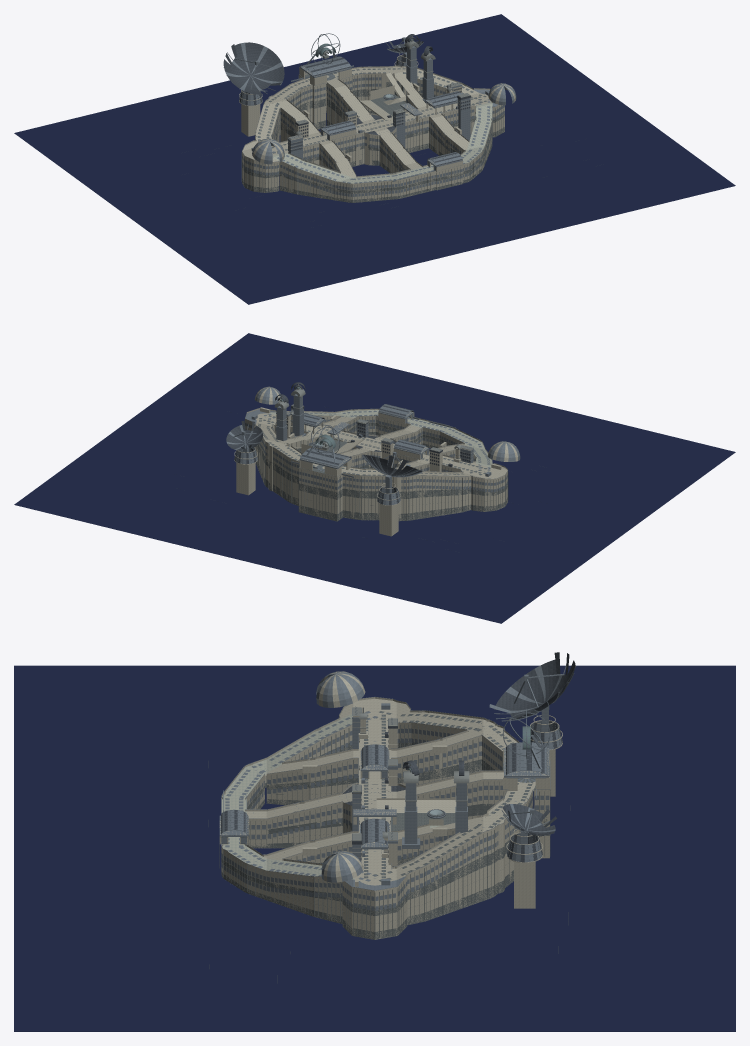
Rendered from candidate.glb.
3 renders of one model, top to bottom at view 1: azimuth 30°, elevation 25°; view 2: azimuth 150°, elevation 25°; view 3: azimuth 270°, elevation 25°, orthographic. The views are drawn at different scales.
Parts seen in each view (by area): view 1: kit.authority.sea.00, kit.authority.saltstone.00, kit.authority.metal.00, kit.authority.paving.01, kit.authority.paving.00, kit.authority.mirror.00, kit.authority.cistern.00, kit.authority.ochre.00, kit.authority.ochre.01; view 2: kit.authority.sea.00, kit.authority.saltstone.00, kit.authority.metal.00, kit.authority.paving.00, kit.authority.paving.01, kit.authority.mirror.00, kit.authority.cistern.00, kit.authority.ochre.00, kit.authority.ochre.01; view 3: kit.authority.sea.00, kit.authority.saltstone.00, kit.authority.metal.00, kit.authority.paving.01, kit.authority.paving.00, kit.authority.mirror.00, kit.authority.ochre.00, kit.authority.cistern.00, kit.authority.ochre.01, kit.authority.parallax.instrument-alloy.00.
Part boxes in pixels (x1,y1,x2,y2): kit.authority.sea.00: (14, 14, 735, 304); kit.authority.saltstone.00: (239, 53, 515, 202); kit.authority.metal.00: (223, 33, 516, 196); kit.authority.paving.01: (241, 68, 504, 192); kit.authority.paving.00: (255, 74, 492, 202); kit.authority.mirror.00: (223, 38, 470, 166); kit.authority.cistern.00: (272, 102, 492, 183); kit.authority.ochre.00: (239, 61, 504, 196); kit.authority.ochre.01: (258, 37, 489, 181); kit.authority.sea.00: (14, 333, 735, 623); kit.authority.saltstone.00: (234, 386, 517, 536); kit.authority.metal.00: (226, 386, 520, 505); kit.authority.paving.00: (255, 417, 475, 521); kit.authority.paving.01: (244, 413, 508, 521); kit.authority.mirror.00: (226, 404, 470, 505); kit.authority.cistern.00: (267, 410, 492, 468); kit.authority.ochre.00: (245, 408, 507, 504); kit.authority.ochre.01: (234, 404, 490, 501); kit.authority.sea.00: (14, 665, 735, 1031); kit.authority.saltstone.00: (219, 671, 562, 939); kit.authority.metal.00: (219, 663, 575, 910); kit.authority.paving.01: (219, 711, 550, 939); kit.authority.paving.00: (221, 724, 533, 925); kit.authority.mirror.00: (208, 652, 575, 983); kit.authority.ochre.00: (221, 674, 562, 909); kit.authority.cistern.00: (221, 714, 441, 880); kit.authority.ochre.01: (220, 712, 559, 878); kit.authority.parallax.instrument-alloy.00: (402, 783, 466, 848).
Size of the model in its own units: 480 by 84.25 by 400.
14 materials, 13 textured.
